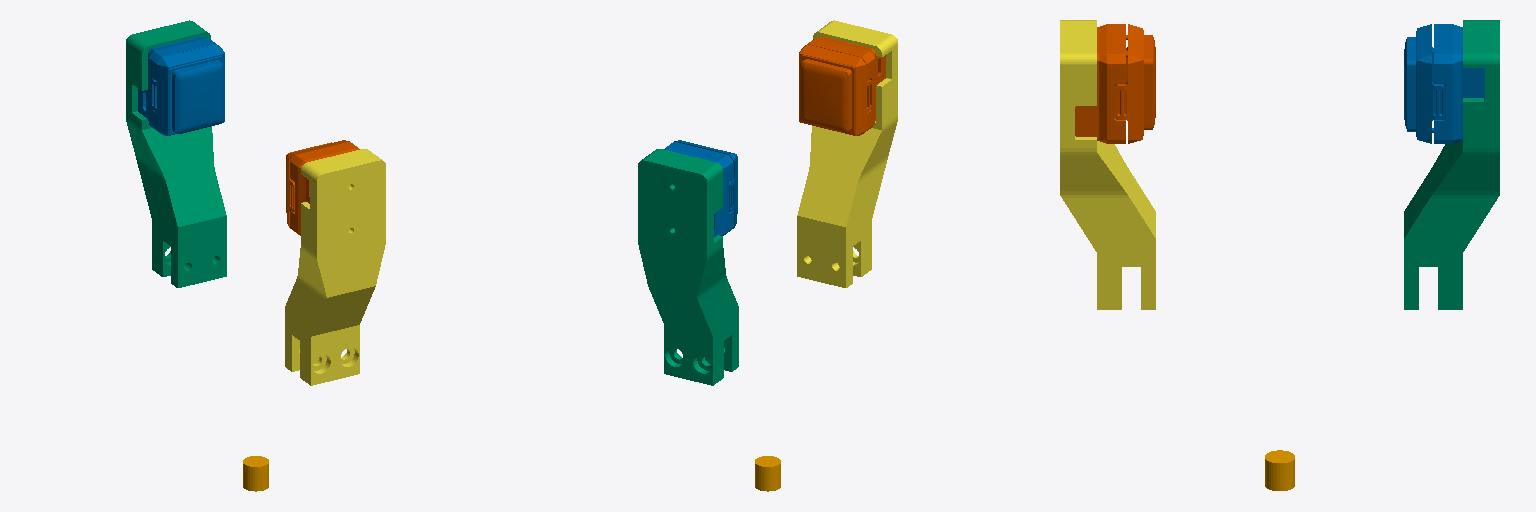
robot.urdf — hand:
<?xml version="1.0" ?>
<robot name="hand">
  <link name="dummylink">
    <visual>
      <geometry>
          <cylinder length="0.01" radius="0.005"/> 
      </geometry>
    </visual>
  </link>

  <link name="panda_hand">
    <visual>
      <geometry>
        <mesh filename="../meshes/visual/hand.dae"/>
      </geometry>
    </visual>
    <collision>
      <geometry>
        <mesh filename="../meshes/collision/hand.stl"/>
      </geometry>
    </collision>
  </link>
  <link name="panda_left_adapt_finger">
    <visual>
      <origin rpy="-1.570796327 0 0" xyz="-0.015 0 0"/>
      <geometry>
        <mesh filename="../meshes/collision/finger_gsmini_adapter.stl"/>
      </geometry>
    </visual>
    <collision>
      <origin rpy="-1.570796327 0 0" xyz="-0.015 0 0"/>
      <geometry>
        <mesh filename="../meshes/collision/finger_gsmini_adapter.stl"/>
      </geometry>
    </collision>
  </link>
  <link name="panda_right_adapt_finger">
    <visual>
      <origin rpy="-1.570796327 0 3.141592653589793" xyz="0.015 0 0"/>
      <geometry>
        <mesh filename="../meshes/collision/finger_gsmini_adapter.stl"/>
      </geometry>
    </visual>
    <collision>
      <origin rpy="-1.570796327 0 3.141592653589793" xyz="0.015 0 0"/>
      <geometry>
        <mesh filename="../meshes/collision/finger_gsmini_adapter.stl"/>
      </geometry>
    </collision>
  </link>
  <link name="gsmini_left">
    <visual>
      <origin rpy="-1.570796327 -1.570796327 0" xyz="0 0 0"/>
      <geometry>
        <mesh filename="../meshes/collision/gsmini.stl"/>
      </geometry>
    </visual>
    <collision>
      <origin rpy="-1.570796327 -1.570796327 0" xyz="0 0 0"/>
      <geometry>
        <mesh filename="../meshes/collision/gsmini.stl"/>
      </geometry>
    </collision>
  </link>
  <link name="gsmini_right">
    <visual>
      <origin rpy="1.570796327 1.570796327 0" xyz="0 0 0"/>
      <geometry>
        <mesh filename="../meshes/collision/gsmini.stl"/>
      </geometry>
    </visual>
    <collision >
      <origin rpy="1.570796327 1.570796327 0" xyz="0 0 0"/>
      <geometry>
        <mesh filename="../meshes/collision/gsmini.stl"/>
      </geometry>
    </collision>
  </link>

  <joint name="dummyjoint" type="prismatic">
    <parent link="dummylink"/>
    <child link="panda_hand"/>
    <origin xyz="0 0 0" rpy="0 0 0"/>
    <axis xyz="0 1 0"/> 
    <limit lower="-0.0001" upper="0.0001" effort="100" velocity="0.001"/> 
  </joint>  

  <joint name="panda_finger_joint_left" type="prismatic">
    <parent link="panda_hand"/>
    <child link="panda_left_adapt_finger"/>
    <origin rpy="0 0 0" xyz="0 0.04 0.1546"/>
    <axis xyz="0 -1 0"/>
    <limit effort="100" lower="0.0" upper="0.04" velocity="0.2"/>
    <dynamics damping="500.0" friction="100"/>
  </joint>
  <joint name="panda_finger_joint_right" type="prismatic">
    <parent link="panda_hand"/>
    <child link="panda_right_adapt_finger"/>
    <origin rpy="0 0 0" xyz="0 -0.04 0.1546"/>
    <axis xyz="0 1 0"/>
    <limit effort="100" lower="0.0" upper="0.04" velocity="0.2"/>
    <dynamics damping="500.0" friction="100"/>
    <!-- <mimic joint="panda_finger_joint_left"/> -->
  </joint>
  <joint name="finger_gsmini_joint_left" type="fixed">
    <parent link="panda_left_adapt_finger"/>
    <child link="gsmini_left"/>
    <origin rpy="0 0 -1.570796327" xyz="0 0.02315 -0.01675"/>
  </joint>
  <joint name="finger_gsmini_joint_right" type="fixed">
    <parent link="panda_right_adapt_finger"/>
    <child link="gsmini_right"/>
    <origin rpy="0 0 1.570796327" xyz="0 -0.02315 -0.01675"/>
  </joint>

</robot>

--- Render facts (derived) ---
3 views of the same robot in one strip: view 1: azimuth 30°, elevation 25°; view 2: azimuth 150°, elevation 25°; view 3: azimuth 270°, elevation 25° (orthographic).
Model hand with 6 links and 5 joints (3 prismatic, 2 fixed), rooted at dummylink, posed every joint at zero.
Links seen in each view (by area): view 1: panda_right_adapt_finger, panda_left_adapt_finger, gsmini_left, gsmini_right, dummylink; view 2: panda_left_adapt_finger, panda_right_adapt_finger, gsmini_right, gsmini_left, dummylink; view 3: panda_left_adapt_finger, panda_right_adapt_finger, gsmini_right, gsmini_left, dummylink.
Boxes of the visible links, box(x1,y1,x2,y2) form: panda_right_adapt_finger: box(285, 149, 385, 385); panda_left_adapt_finger: box(126, 20, 226, 287); gsmini_left: box(138, 36, 224, 135); gsmini_right: box(286, 140, 359, 235); dummylink: box(243, 456, 268, 491); panda_left_adapt_finger: box(638, 149, 738, 385); panda_right_adapt_finger: box(797, 20, 897, 287); gsmini_right: box(799, 36, 885, 135); gsmini_left: box(664, 140, 737, 236); dummylink: box(755, 456, 780, 491); panda_left_adapt_finger: box(1404, 20, 1499, 309); panda_right_adapt_finger: box(1060, 20, 1155, 309); gsmini_right: box(1075, 24, 1155, 143); gsmini_left: box(1404, 24, 1484, 143); dummylink: box(1265, 450, 1294, 490).
Bounding box of the posed robot: 0.03 × 0.1423 × 0.1596 m (x, y, z).
Meshes: 3 distinct files referenced, 4 mesh visuals loaded (2 binary STL); not drawn: 1 (reference not matched to a file when rendering).